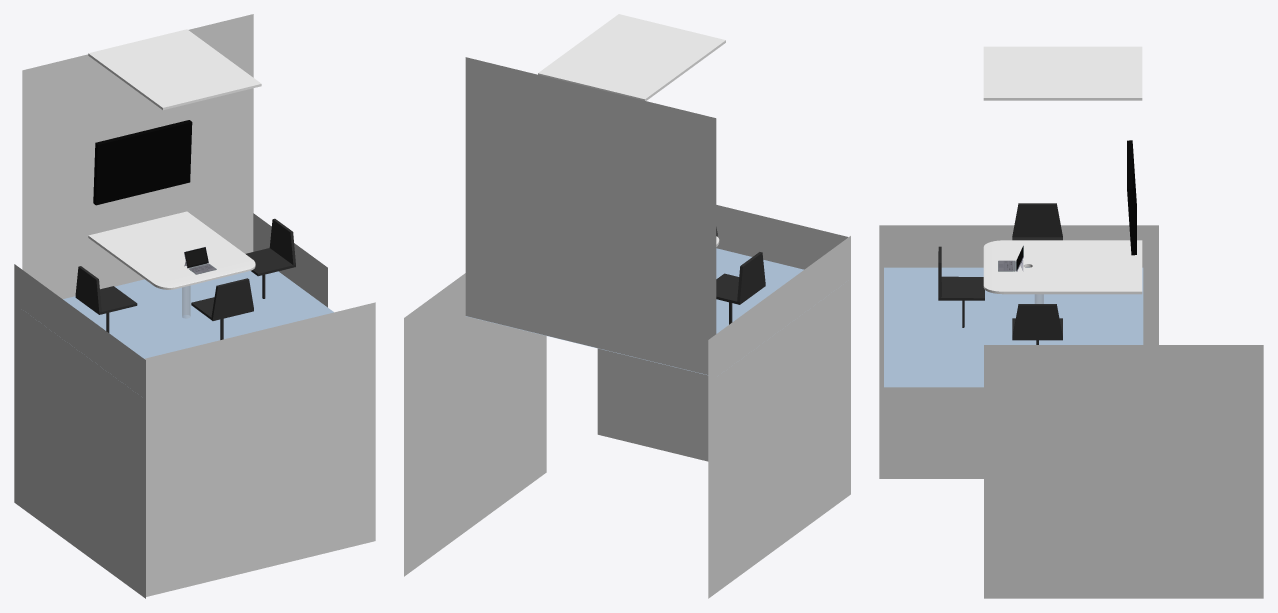
Rendered from besprechungsraum.gltf.
3 renders of one model, left to right at view 1: azimuth 30°, elevation 25°; view 2: azimuth 150°, elevation 25°; view 3: azimuth 270°, elevation 25°, orthographic. The views are drawn at different scales.
Parts seen in each view (by area): view 1: Plane.003, Plane.001, Plane.002, Plane, Cube.003, Cube.001, Cube, Plane.004, Cube.002, Cube.005, Cube.006; view 2: Plane.001, Plane.002, Plane.004, Plane.003, Cube.003, Plane, Cube.006; view 3: Plane.004, Plane.002, Plane, Cube.003, Cube.001, Cube.005, Cube.006, Cube.002, Cube.
Boxes of the visible parts, bbox=[...] form: Plane.003: bbox=[145, 302, 375, 596]; Plane.001: bbox=[22, 14, 253, 298]; Plane.002: bbox=[14, 264, 145, 598]; Plane: bbox=[63, 271, 333, 358]; Cube.003: bbox=[88, 29, 261, 110]; Cube.001: bbox=[88, 211, 255, 289]; Cube: bbox=[93, 120, 192, 205]; Plane.004: bbox=[253, 213, 327, 307]; Cube.002: bbox=[191, 278, 253, 339]; Cube.005: bbox=[246, 218, 295, 298]; Cube.006: bbox=[75, 266, 137, 332]; Plane.001: bbox=[465, 57, 716, 374]; Plane.002: bbox=[708, 236, 850, 598]; Plane.004: bbox=[404, 273, 546, 576]; Plane.003: bbox=[597, 205, 848, 461]; Cube.003: bbox=[538, 14, 725, 100]; Plane: bbox=[466, 248, 803, 375]; Cube.006: bbox=[716, 252, 765, 324]; Plane.004: bbox=[984, 345, 1263, 598]; Plane.002: bbox=[879, 225, 1158, 478]; Plane: bbox=[884, 267, 1143, 387]; Cube.003: bbox=[983, 46, 1142, 100]; Cube.001: bbox=[983, 240, 1142, 294]; Cube.005: bbox=[1012, 304, 1062, 344]; Cube.006: bbox=[1012, 203, 1062, 240]; Cube.002: bbox=[938, 246, 984, 327]; Cube: bbox=[1127, 140, 1136, 255].
Size of the model in its own units: 3.05 by 5.52 by 4.12.
13 materials, 1 textured.
